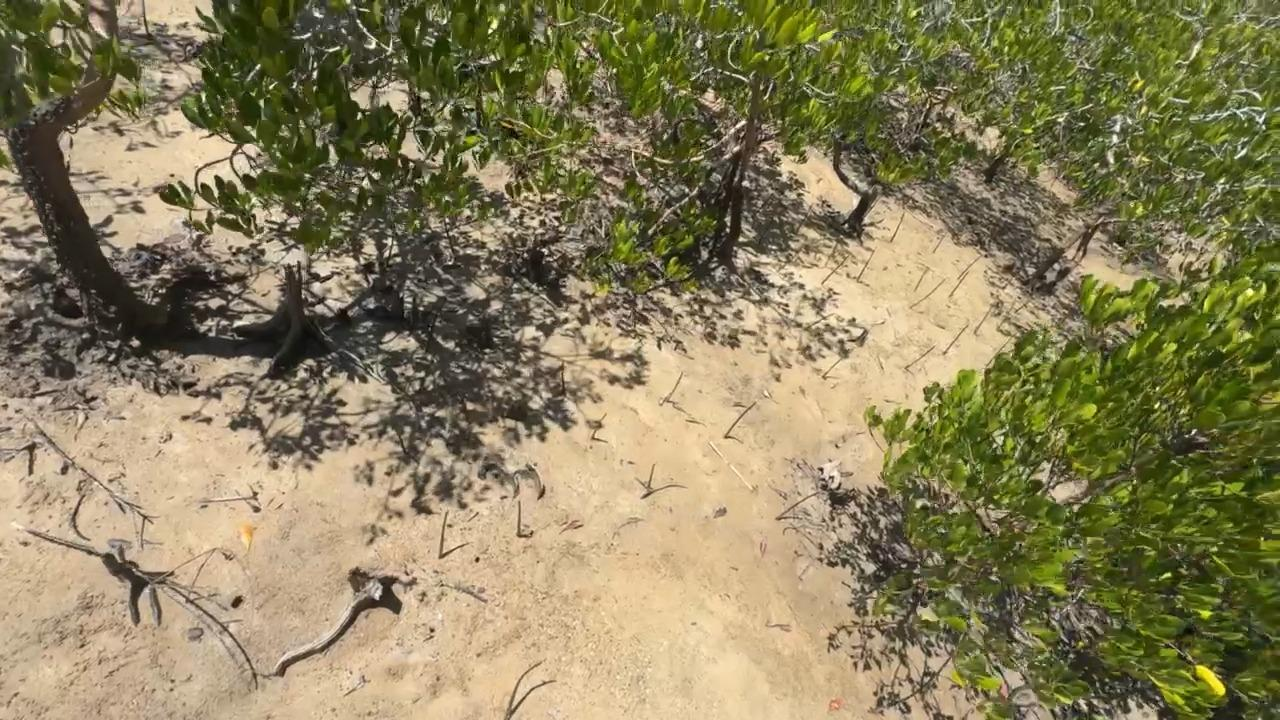Tree: (506, 658, 547, 720), (775, 491, 820, 520), (723, 401, 757, 438), (909, 276, 946, 309), (984, 332, 1019, 366), (821, 348, 853, 378), (821, 254, 849, 283), (942, 324, 969, 354), (904, 346, 936, 369), (956, 255, 982, 281), (663, 370, 684, 402), (795, 201, 816, 232), (856, 248, 875, 282), (973, 304, 994, 334), (948, 271, 970, 296), (439, 511, 450, 559), (889, 211, 905, 243), (16, 440, 41, 459), (590, 412, 607, 439), (913, 266, 930, 292), (932, 232, 946, 253), (647, 464, 656, 489), (561, 358, 567, 394), (1013, 299, 1028, 313), (517, 499, 522, 536), (1008, 298, 1016, 315), (998, 316, 1007, 329)
